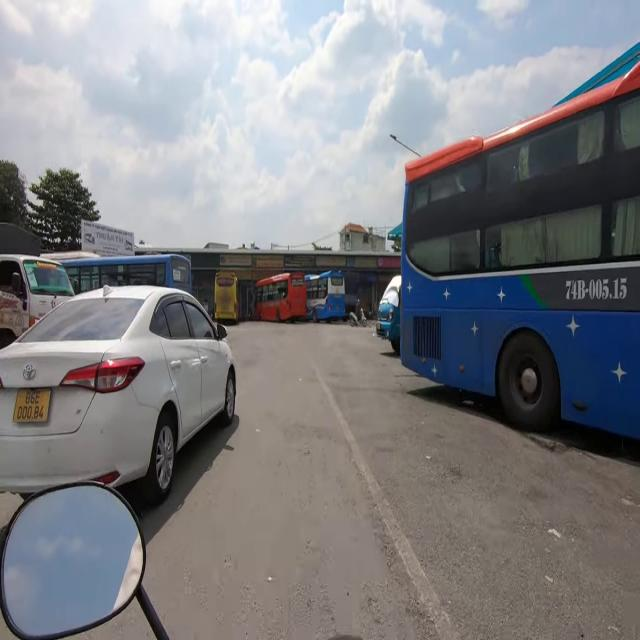bien_vang: (14, 385, 50, 423)
